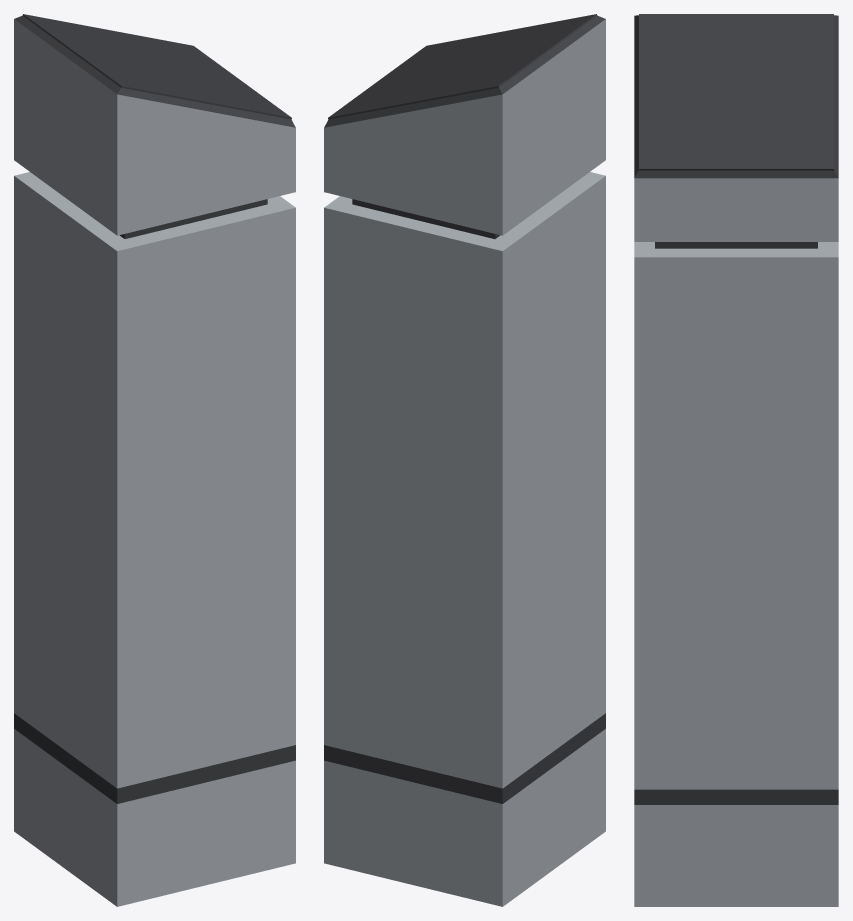
Rendered from talo5.fbx.
The picture shows the model from 3 angles, left to right: view 1: azimuth 30°, elevation 25°; view 2: azimuth 150°, elevation 25°; view 3: azimuth 270°, elevation 25°; orthographic projection.
Parts seen in each view (by area): view 1: talo5; view 2: talo5; view 3: talo5.
Boxes of the visible parts, x1,y1,x2,y2 form: talo5: [14, 14, 295, 906]; talo5: [324, 14, 605, 906]; talo5: [634, 14, 838, 906].
Bounding box in the file's own units: 150 × 656 × 150.
